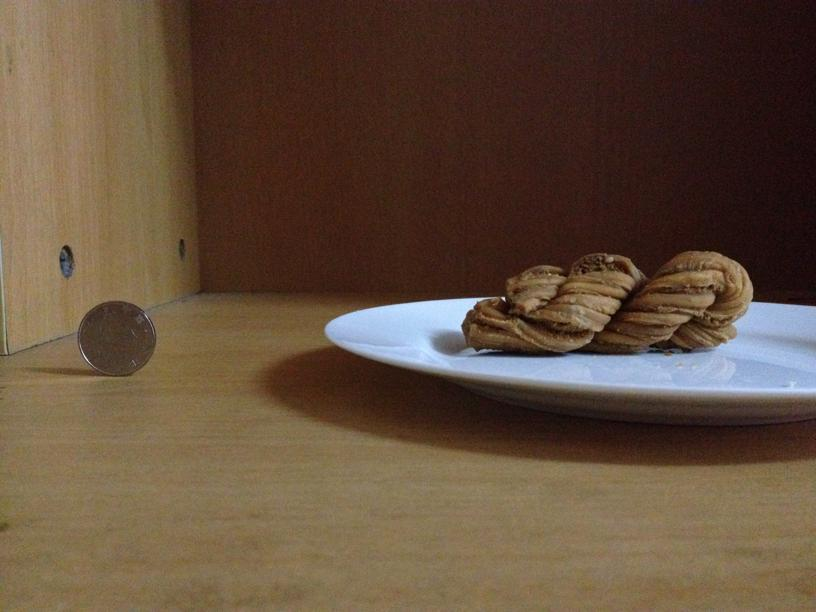coin: (76, 297, 156, 375)
fired_dough_twist: (463, 250, 754, 355)
